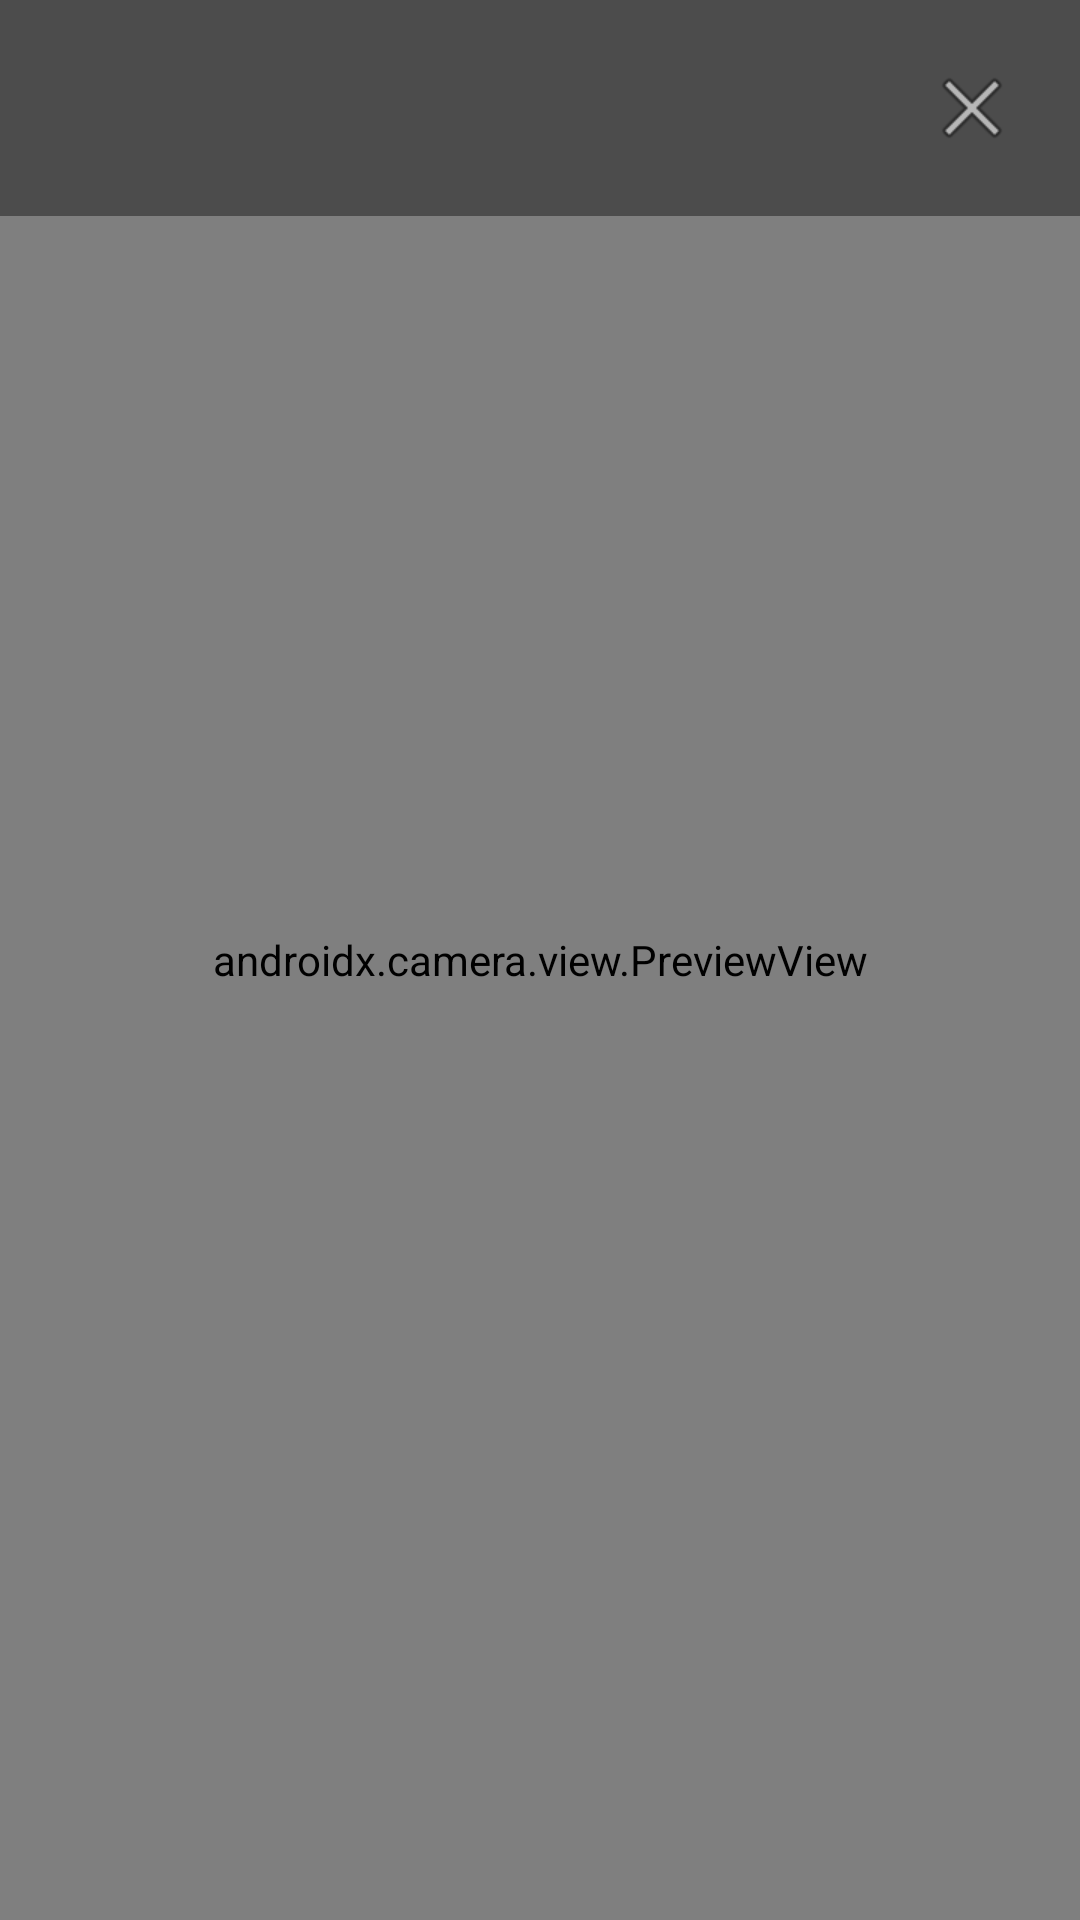

Icon bounding boxes for this 1080px×1920px phone screenshot, format (x1, y1, x2, y2):
Cerrar busqueda: (943, 79, 1001, 137)
